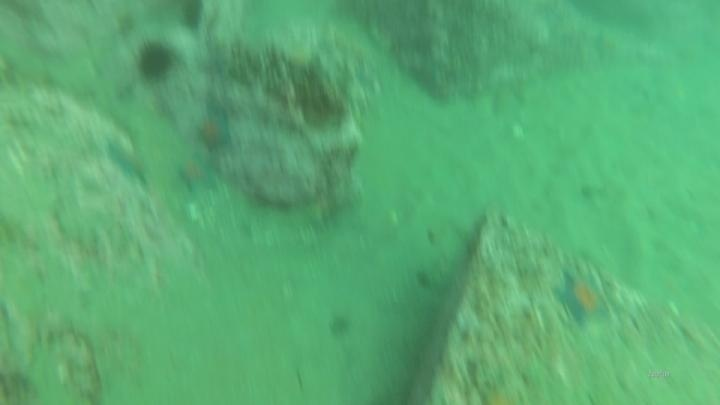echinus: (133, 39, 177, 84), (176, 1, 207, 35)
starfish: (551, 266, 613, 331), (101, 136, 153, 191), (191, 104, 236, 154), (172, 152, 222, 197), (280, 36, 322, 78)
